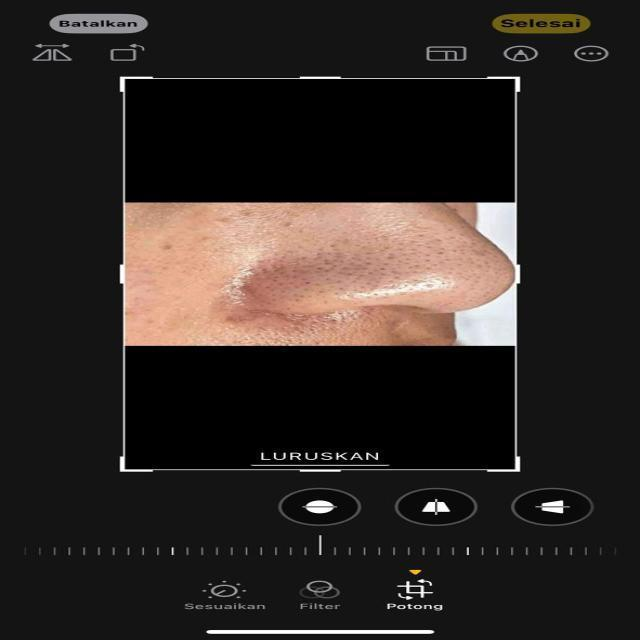blackhead: (233, 227, 510, 299)
